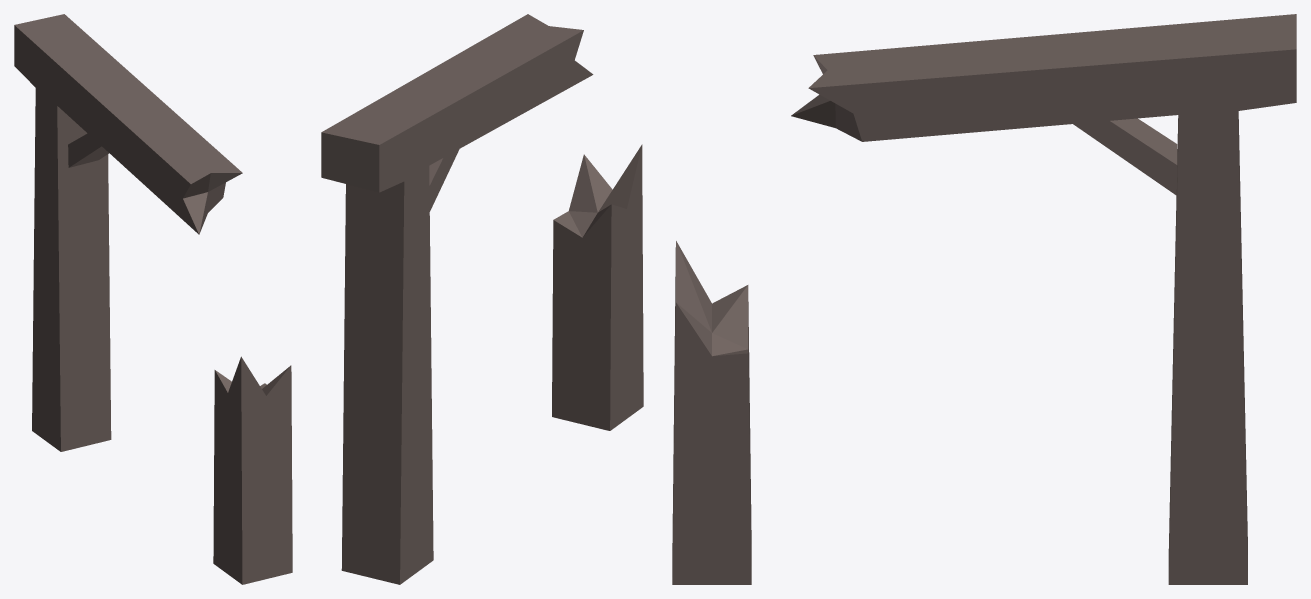
Rendered from MineBrokenFrame07.fbx.
The picture shows the model from 3 angles, left to right: view 1: azimuth 30°, elevation 25°; view 2: azimuth 150°, elevation 25°; view 3: azimuth 270°, elevation 25°; orthographic projection. The views are drawn at different scales.
Parts seen in each view (by area): view 1: MineBrokenFrame07; view 2: MineBrokenFrame07; view 3: MineBrokenFrame07.
Part boxes in pixels (bbox=[...]): MineBrokenFrame07: bbox=[14, 14, 292, 584]; MineBrokenFrame07: bbox=[321, 14, 643, 584]; MineBrokenFrame07: bbox=[672, 14, 1296, 584].
Size of the model in its own units: 396 by 377 by 50.42.
